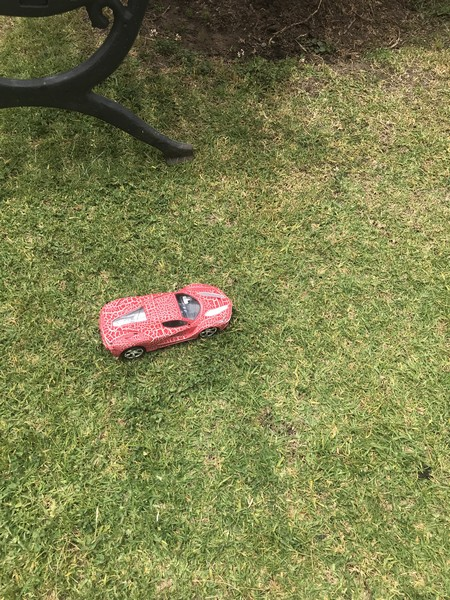RC: (97, 284, 235, 358)
